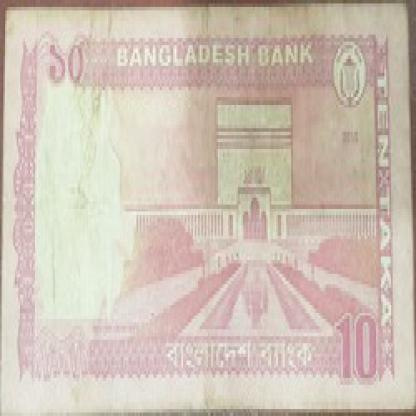Ten Taka: (333, 298, 381, 388), (43, 28, 95, 86)
